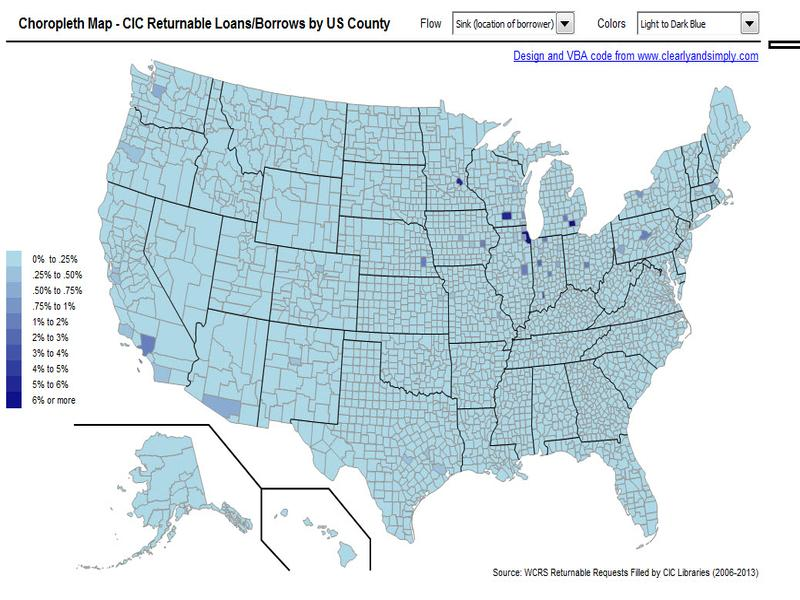legend: (3, 249, 84, 411)
